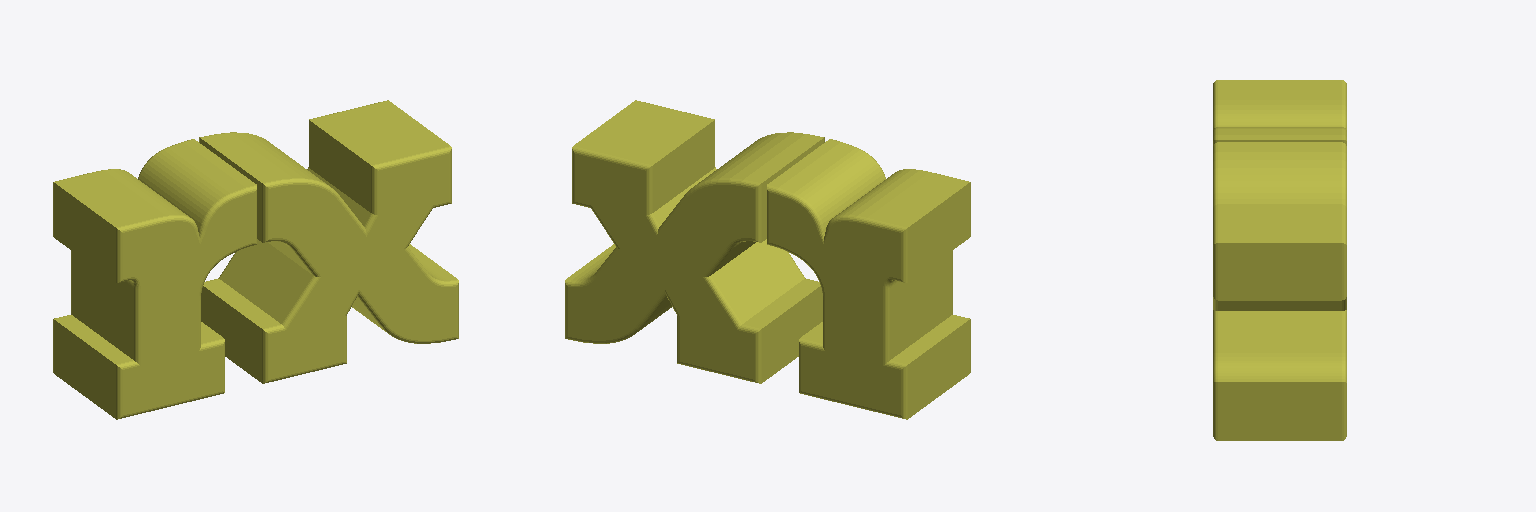
The picture shows the model from 3 angles: view 1: azimuth 30°, elevation 25°; view 2: azimuth 150°, elevation 25°; view 3: azimuth 270°, elevation 25°; orthographic projection.
Parts seen in each view (by area): view 1: Extrude.1; view 2: Extrude.1; view 3: Extrude.1.
Part boxes in pixels (x1,y1,x2,y2): Extrude.1: (53, 100, 458, 419); Extrude.1: (565, 100, 970, 419); Extrude.1: (1213, 80, 1346, 440).
Bounding box in the file's own units: 15.89 × 9.01 × 5.4.